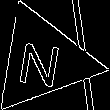N_N: (18, 32, 68, 88)
